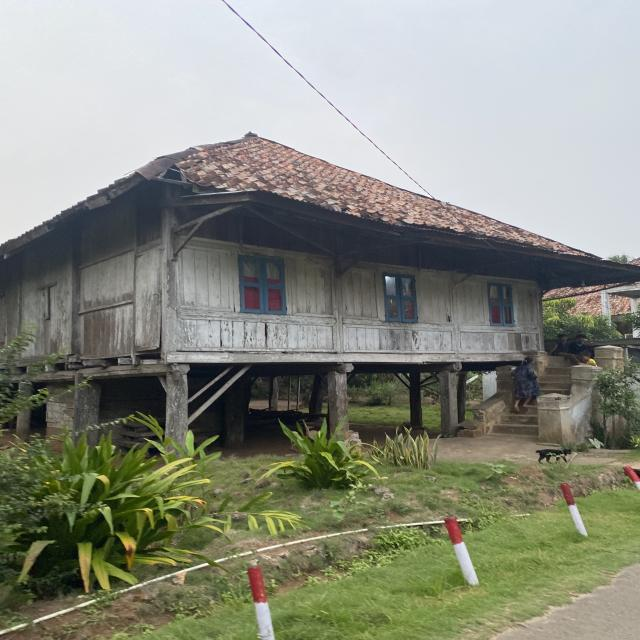Kolom: (225, 377, 244, 448)
Tembok Bangunan: (0, 183, 543, 365)
